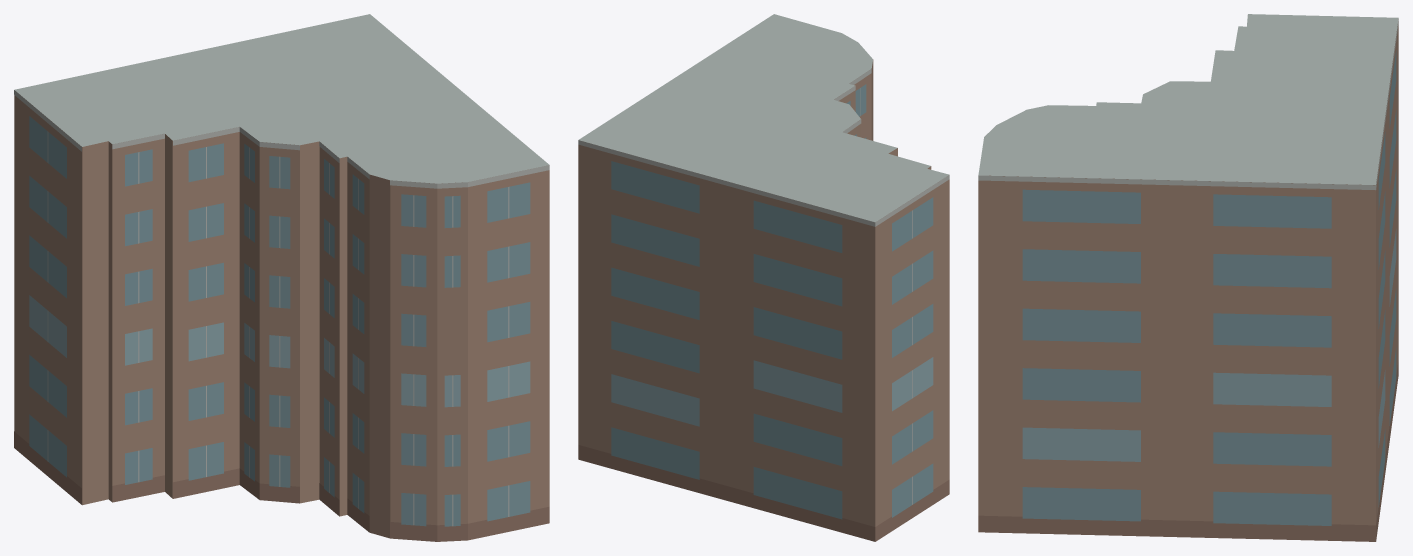
File: survey-upis-33006196.glb
3 views of the same model, side by side, from view 1: azimuth 30°, elevation 25°; view 2: azimuth 150°, elevation 25°; view 3: azimuth 270°, elevation 25° (orthographic). The views are drawn at different scales.
Parts seen in each view (by area): view 1: survey-upis-33006196.tmp; view 2: survey-upis-33006196.tmp; view 3: survey-upis-33006196.tmp.
Boxes of the visible parts, bbox=[...] form: survey-upis-33006196.tmp: bbox=[14, 14, 549, 541]; survey-upis-33006196.tmp: bbox=[578, 14, 949, 541]; survey-upis-33006196.tmp: bbox=[978, 14, 1398, 541].
Size of the model in its own units: 17.81 by 17.3 by 18.48.
